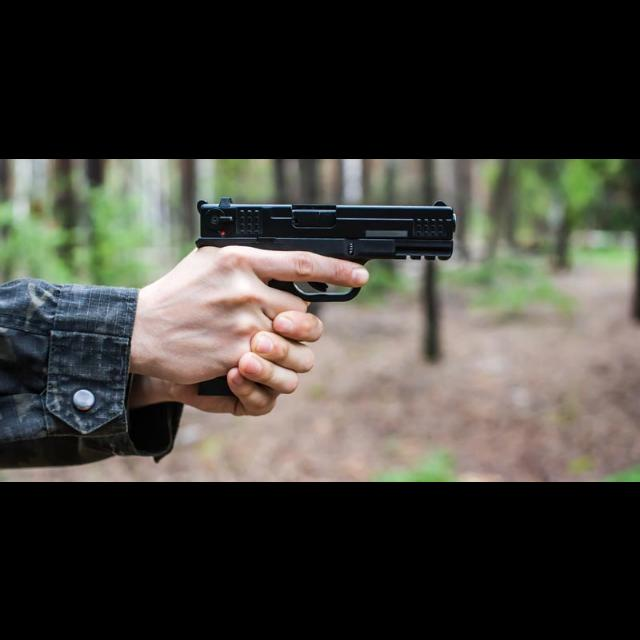handgun: (193, 193, 462, 303)
